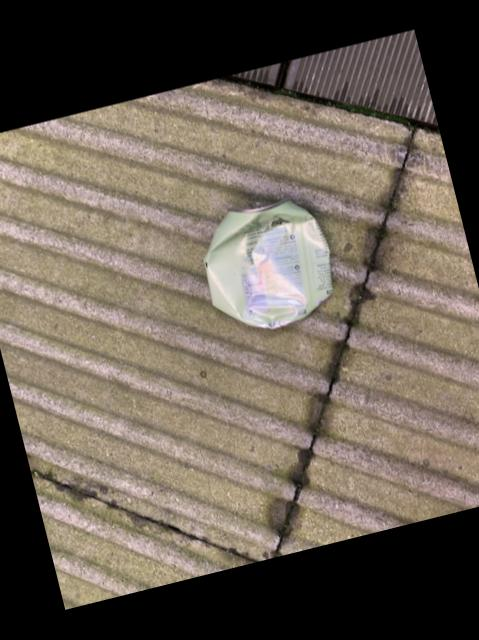metal: (202, 200, 329, 328)
